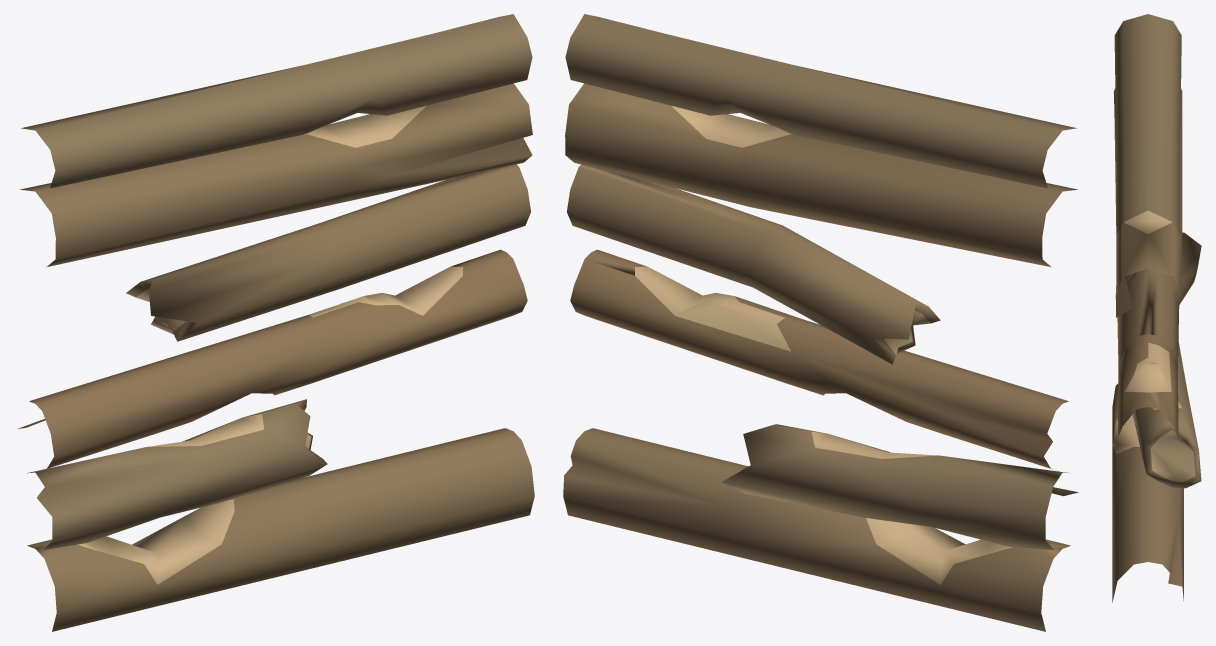
The model's file is rpgpp_av_wall_03_3x3_d.gltf.
The picture shows the model from 3 angles, left to right: view 1: azimuth 30°, elevation 25°; view 2: azimuth 150°, elevation 25°; view 3: azimuth 270°, elevation 25°; orthographic projection. The views are drawn at different scales.
Visible parts, largest first — view 1: rpgpp_av_wall_03_3x3_d; view 2: rpgpp_av_wall_03_3x3_d; view 3: rpgpp_av_wall_03_3x3_d.
Boxes of the visible parts, x1,y1,x2,y2 form: rpgpp_av_wall_03_3x3_d: (18, 14, 534, 631); rpgpp_av_wall_03_3x3_d: (563, 14, 1078, 631); rpgpp_av_wall_03_3x3_d: (1112, 14, 1201, 602).
Bounding box in the file's own units: 0.03 × 0.03 × 0.00576.
Materials: 1 (1 with a texture image).
